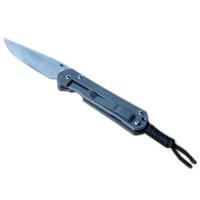knife: (2, 34, 188, 164)
